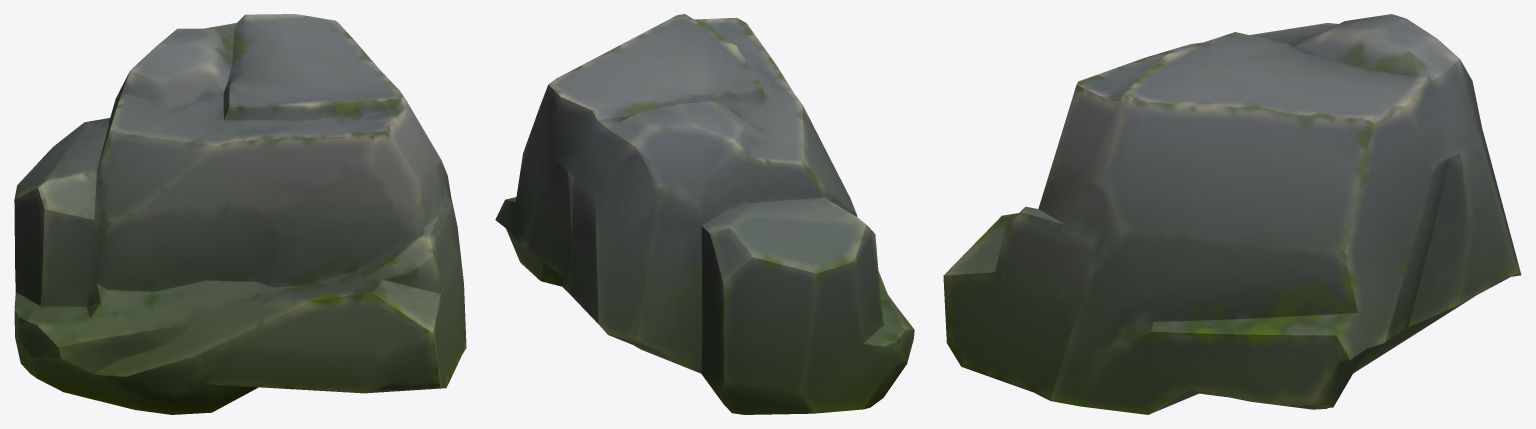
File: Rock_Medium_3.glb
3 renders of one model, left to right at view 1: azimuth 30°, elevation 25°; view 2: azimuth 150°, elevation 25°; view 3: azimuth 270°, elevation 25°, orthographic. The views are drawn at different scales.
Parts seen in each view (by area): view 1: Rock_Medium_3; view 2: Rock_Medium_3; view 3: Rock_Medium_3.
Part boxes in pixels (bbox=[...]): Rock_Medium_3: bbox=[14, 14, 466, 414]; Rock_Medium_3: bbox=[495, 14, 914, 414]; Rock_Medium_3: bbox=[943, 14, 1521, 414].
Size of the model in its own units: 3.42 by 2.32 by 3.48.
Materials: 1 (1 with a texture image).
